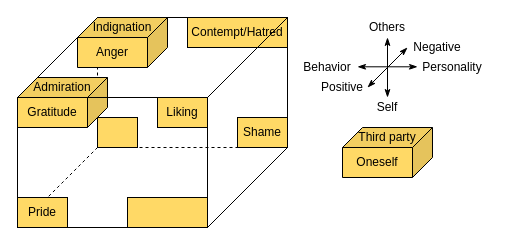
The diagram is 505 pixels wide and 246 high, and some of its shapes have lost their labels. Here are the shapes that lost their labels. From the top down, the centre of each, then its label:
At point (117, 132): "Guilt".
At point (167, 212): "Pridefulness".
